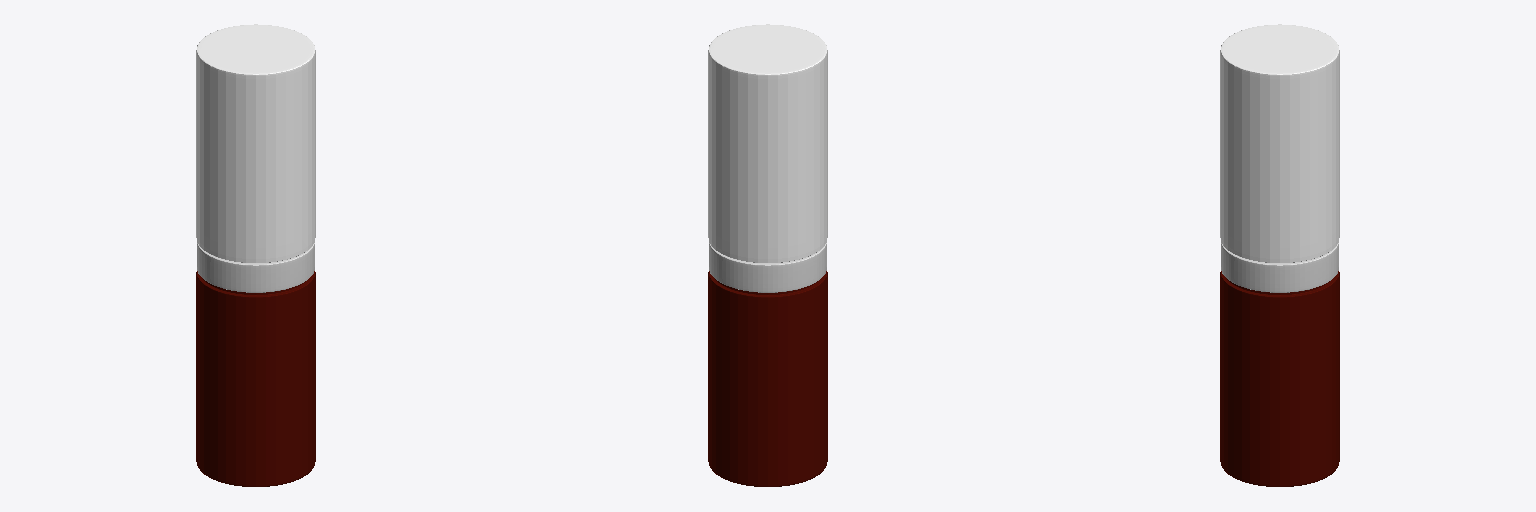
3 renders of one model, left to right at view 1: azimuth 30°, elevation 25°; view 2: azimuth 150°, elevation 25°; view 3: azimuth 270°, elevation 25°, orthographic.
Visible parts, largest first — view 1: Plastic_Clear, Plastic_Gloss, Metallic; view 2: Plastic_Clear, Plastic_Gloss, Metallic; view 3: Plastic_Clear, Plastic_Gloss, Metallic.
Boxes of the visible parts, x1=… form: Plastic_Clear: x1=196, y1=24, x2=315, y2=262; Plastic_Gloss: x1=196, y1=271, x2=315, y2=486; Metallic: x1=197, y1=243, x2=314, y2=292; Plastic_Clear: x1=708, y1=24, x2=827, y2=262; Plastic_Gloss: x1=708, y1=271, x2=827, y2=486; Metallic: x1=709, y1=243, x2=826, y2=292; Plastic_Clear: x1=1220, y1=24, x2=1339, y2=262; Plastic_Gloss: x1=1220, y1=271, x2=1339, y2=486; Metallic: x1=1221, y1=243, x2=1338, y2=292.
Bounding box in the file's own units: 2.07 × 7.91 × 2.07.
Materials: 4 (4 with a texture image).